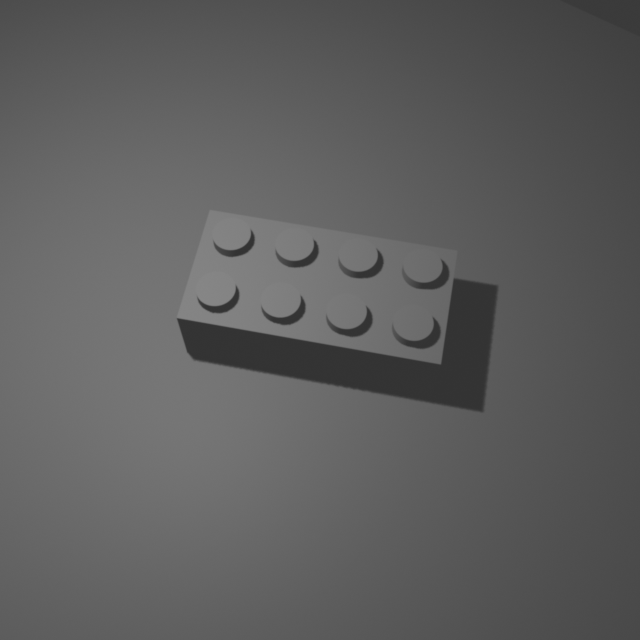lego_2x4: (175, 203, 459, 396)
